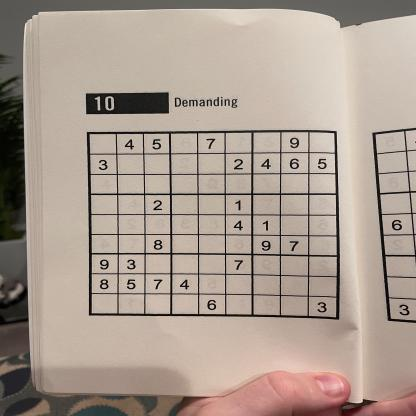sudoku: (82, 127, 343, 322)
